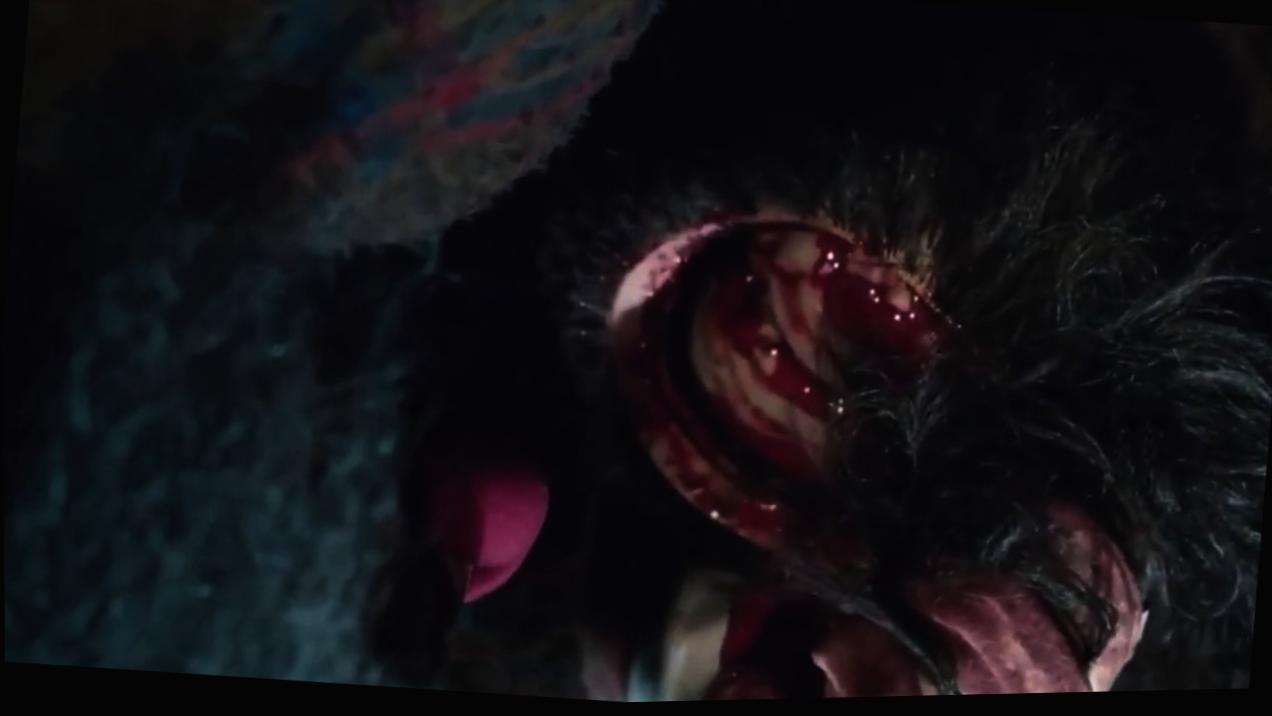Fire: (617, 233, 938, 573)
